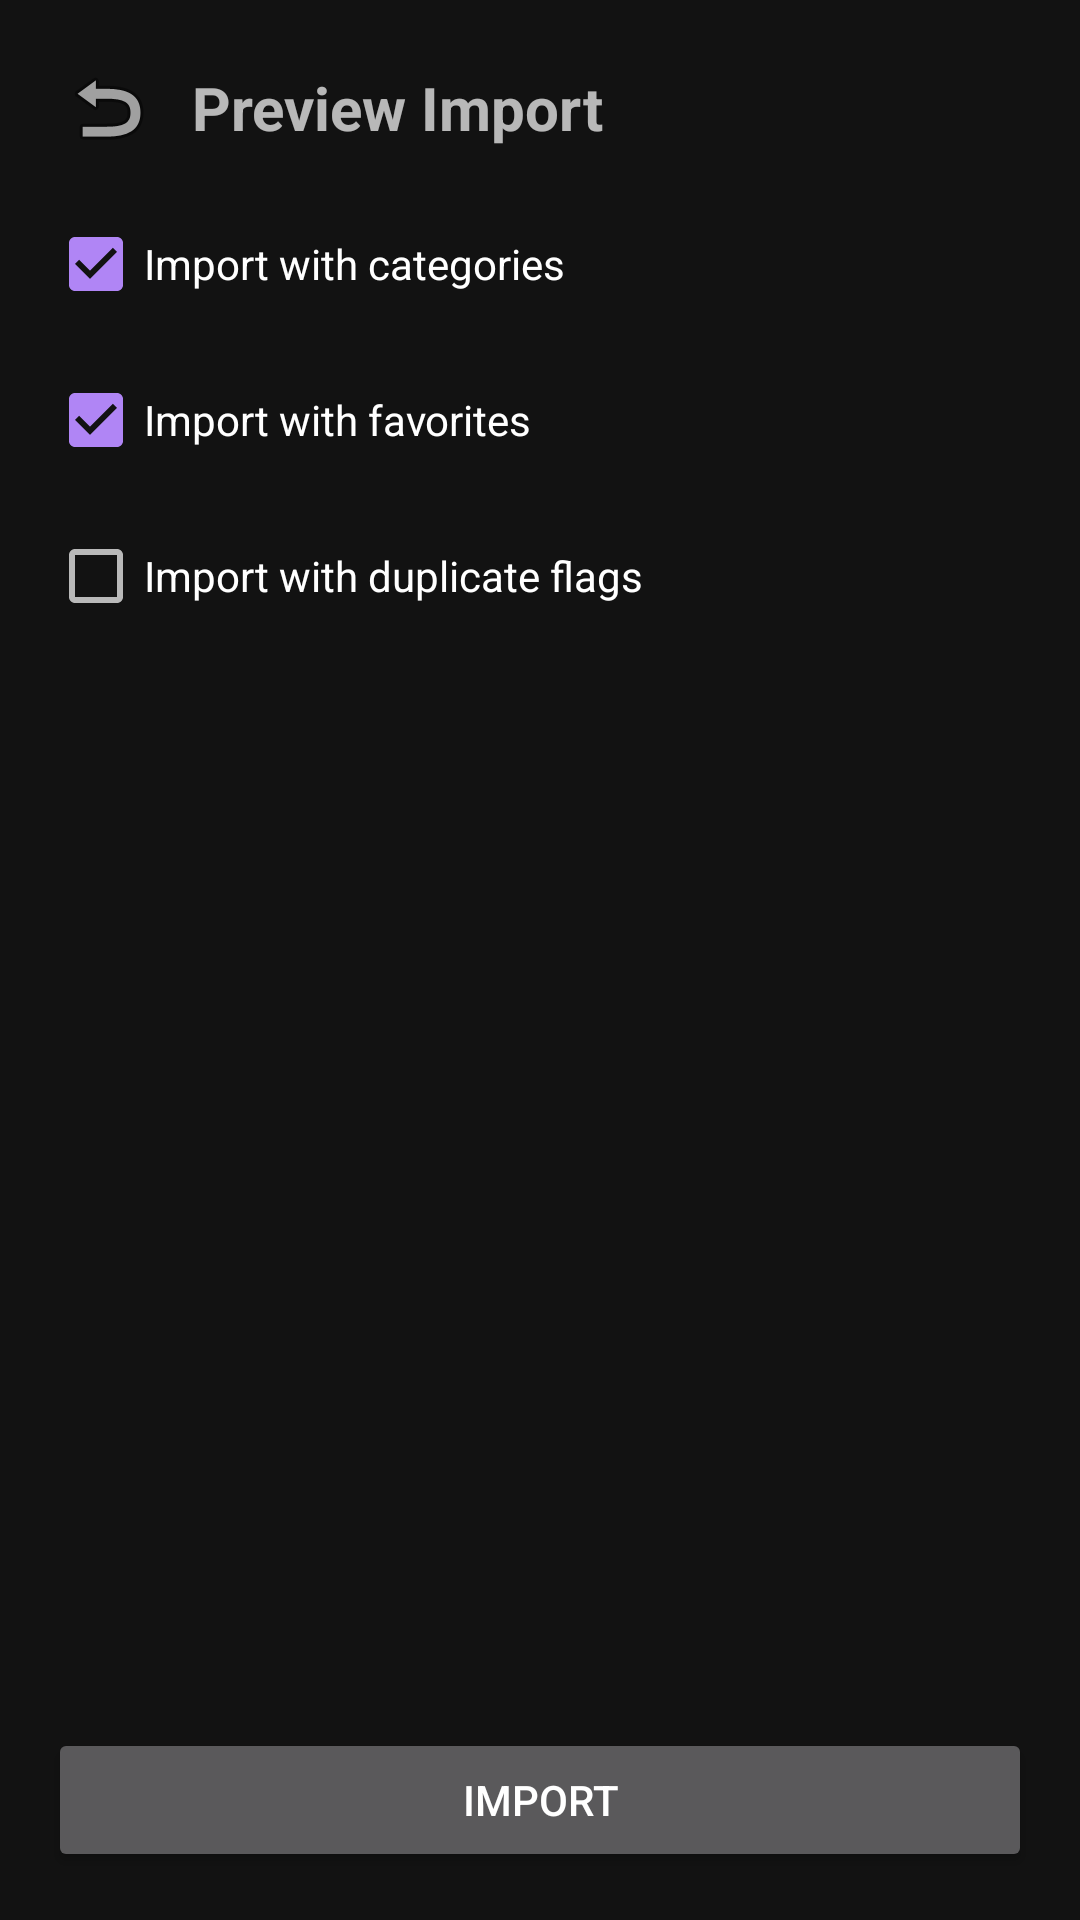

Icons on this 1080×1920 Android screen, each with its box as {"left": x1, "top": y1, "right": x2, "bottom": y2}:
Back: {"left": 78, "top": 80, "right": 141, "bottom": 137}
